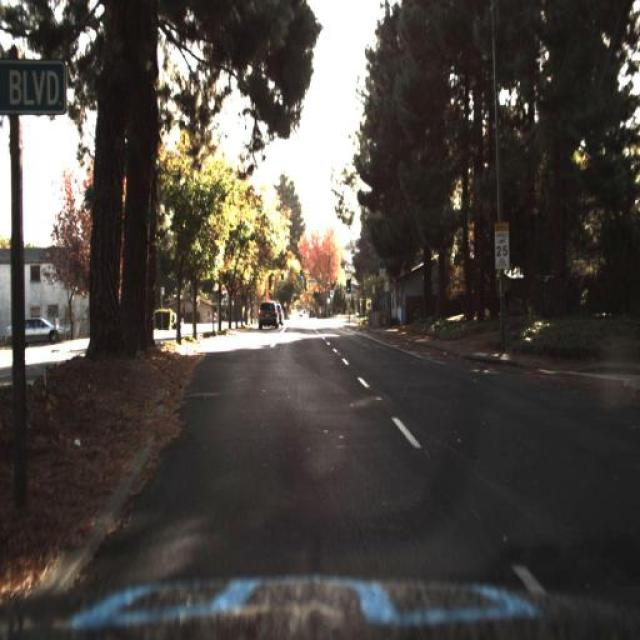car: (9, 316, 69, 346), (258, 301, 280, 329), (284, 304, 290, 332)
trafficLight-Green: (342, 276, 352, 296)
trafficLight-GreenLeft: (295, 262, 305, 287), (276, 270, 284, 292)
